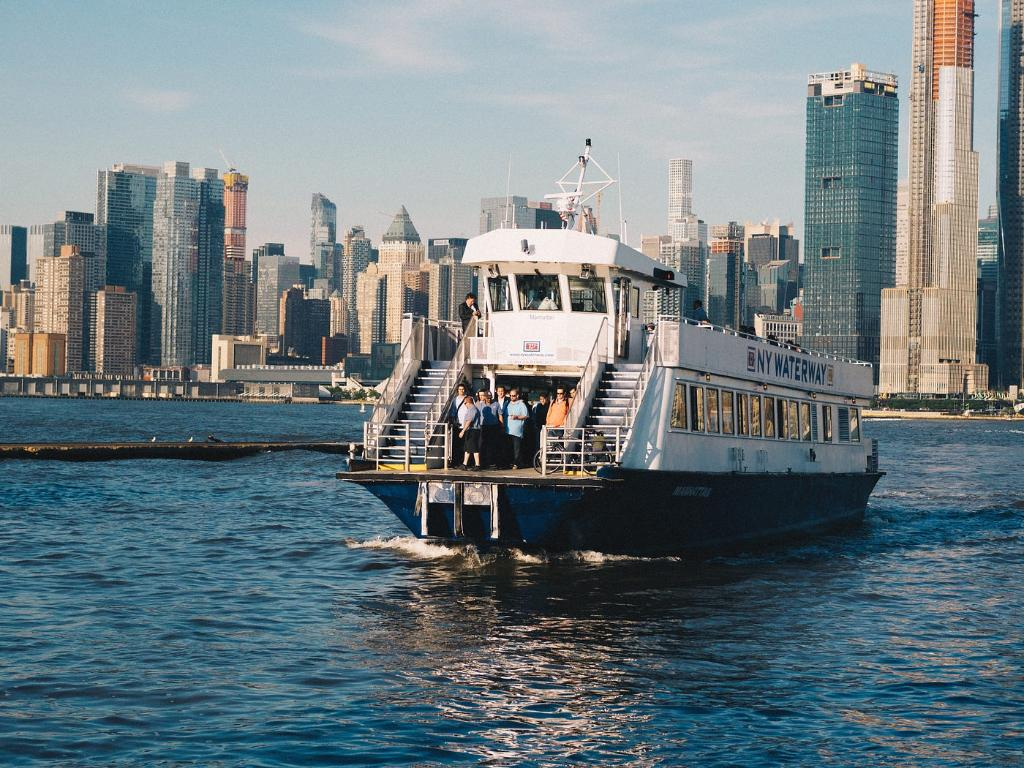PassengerShip: (320, 131, 906, 551)
